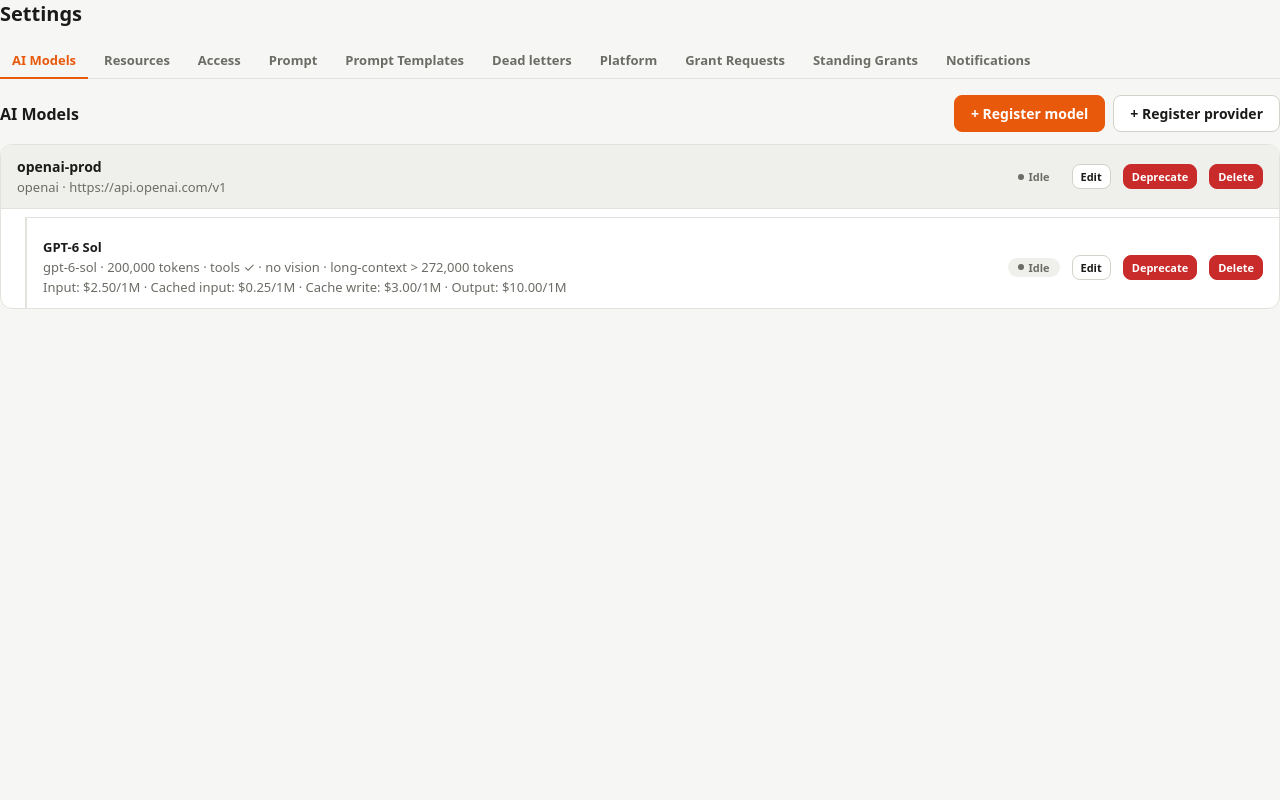
it: ProviderModal (register + edit + connection test) › failed save surfaces the error and keeps the modal open
Click the button "+ Register provider": (1197, 114) [1113,95,1279,132]
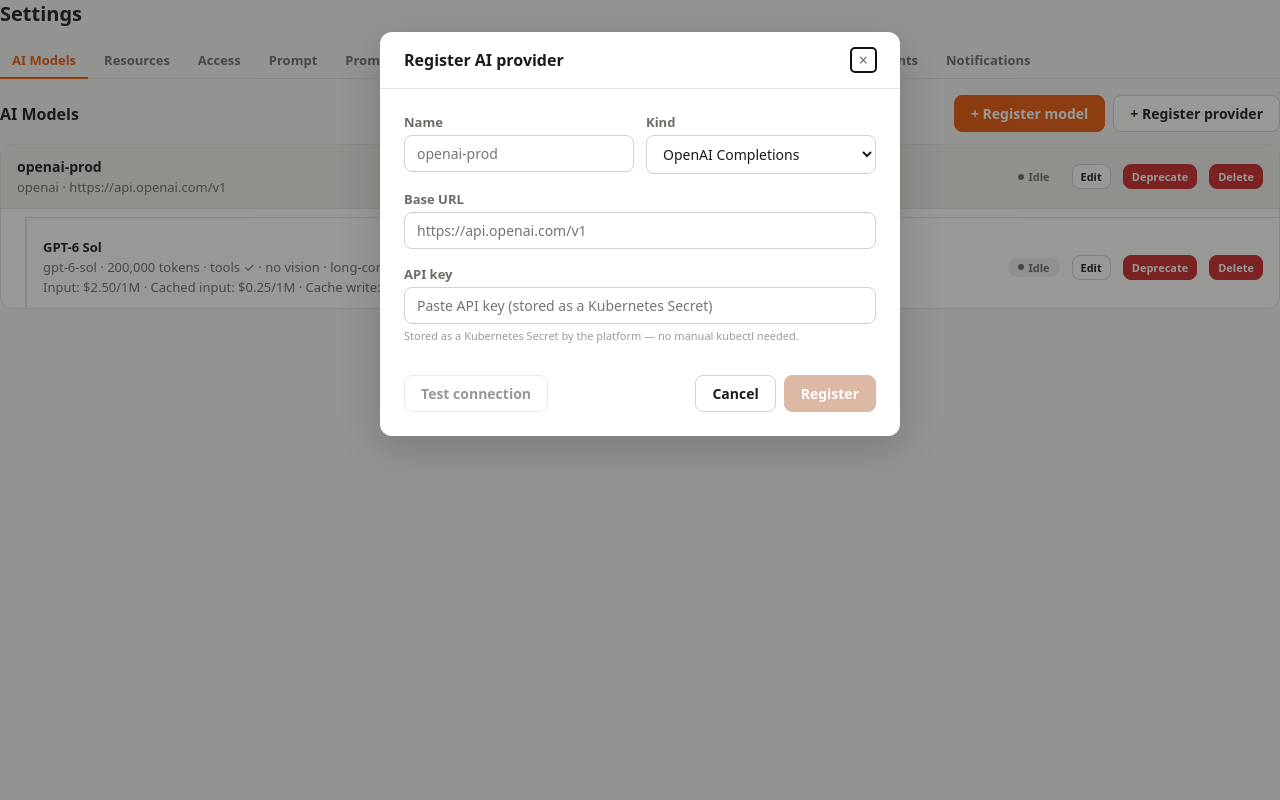
In the field labelled "Name": (519, 154) [404,135,634,172], type "x"
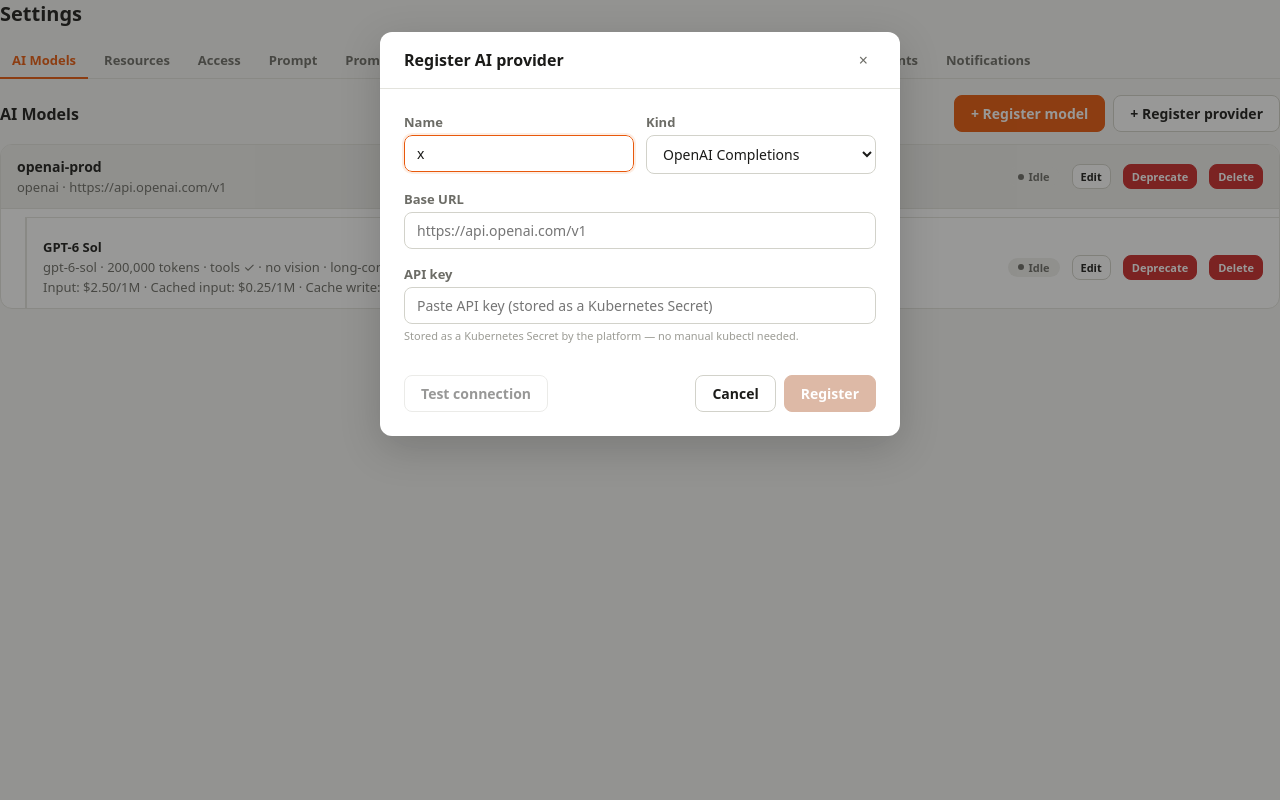
In the field labelled "Base URL": (640, 230) [404,212,876,249], type "https://x"
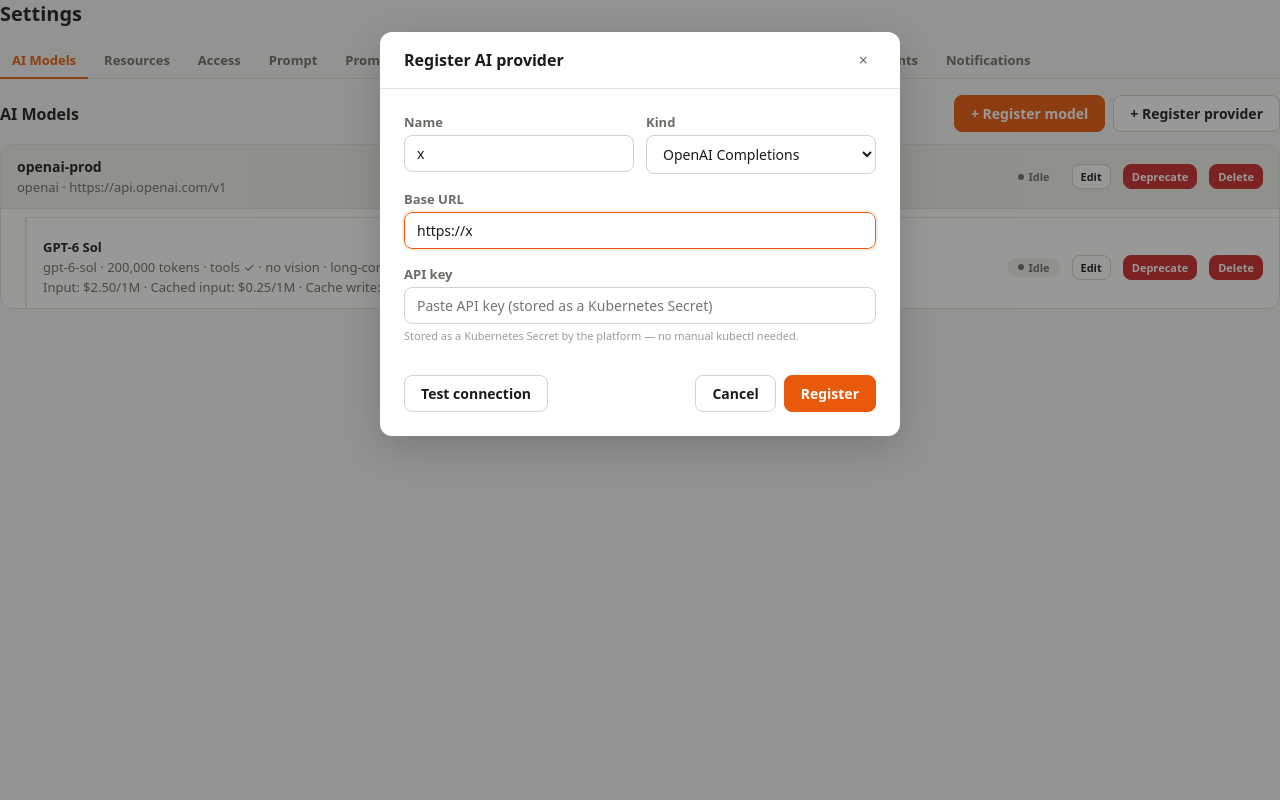
Click the button "Register": (830, 394) [784,375,876,412]
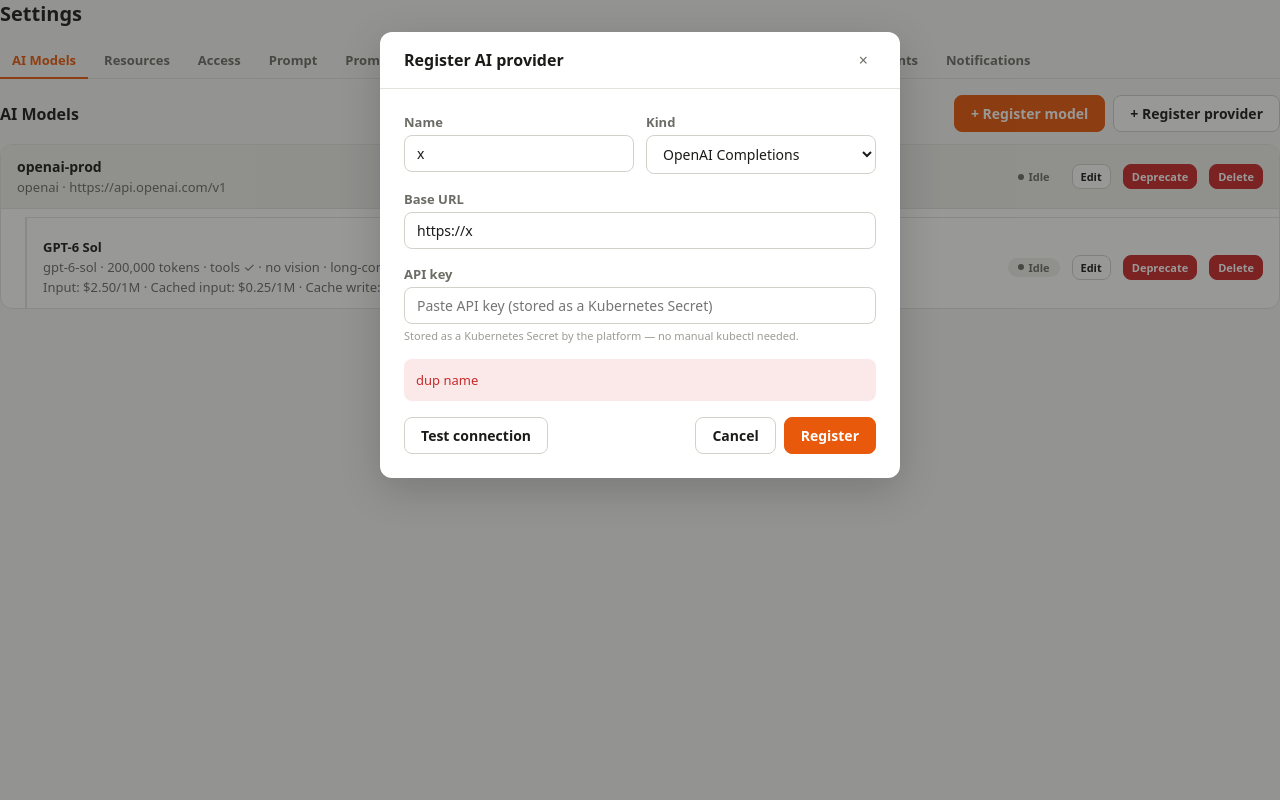
Check: the dialog "Register AI provider" is shown
Check: the text "dup name" is shown, box [404,359,876,401]
